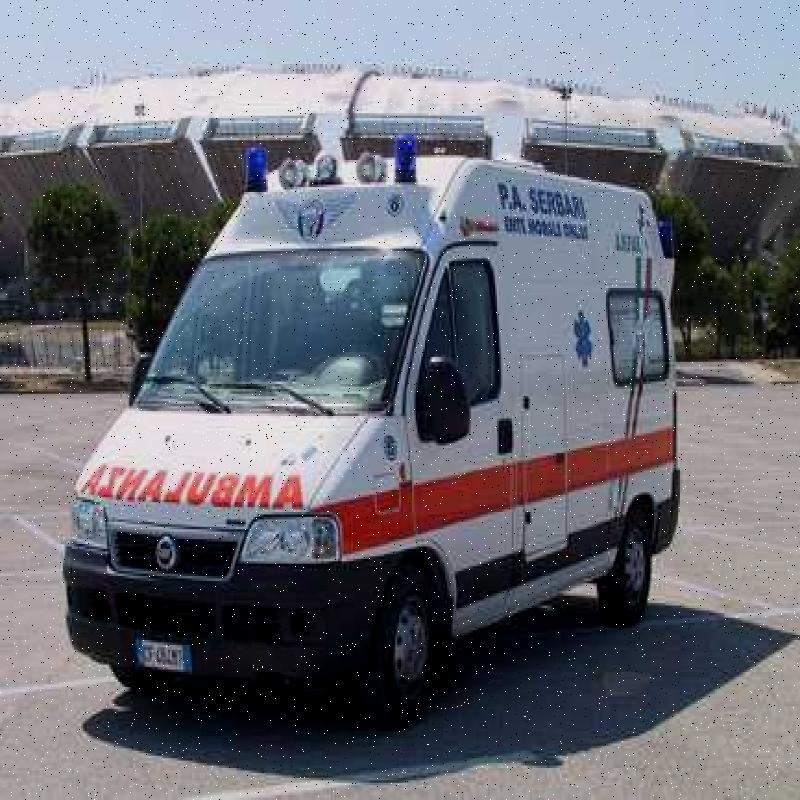AmbulanceSiren: (383, 120, 424, 187), (235, 134, 275, 201)
